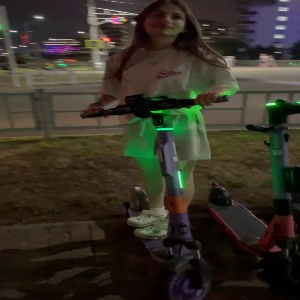human on a scooter: (79, 1, 239, 300)
